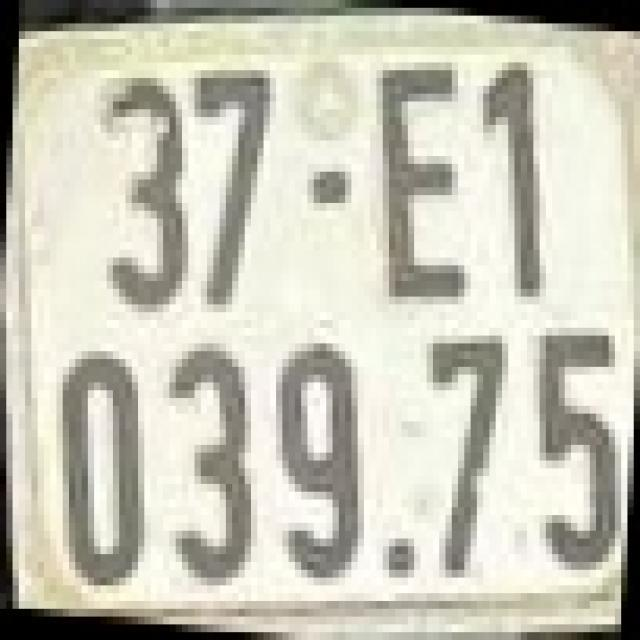0: (62, 344, 144, 586)
1: (476, 55, 558, 296)
3: (163, 343, 257, 578), (94, 70, 188, 304)
5: (534, 328, 622, 570)
7: (426, 328, 508, 578), (195, 63, 276, 304)
9: (276, 336, 364, 578)
E: (376, 54, 471, 304)
